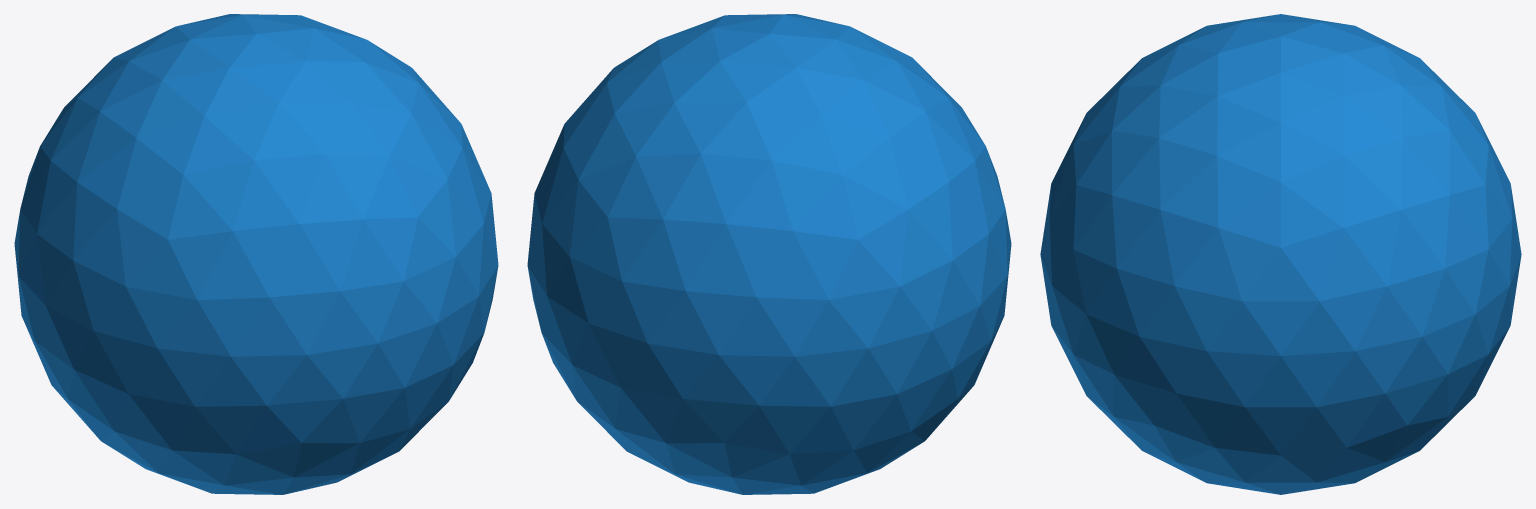
File: Ice_Planet.FBX
3 views of the same model, side by side, from view 1: azimuth 30°, elevation 25°; view 2: azimuth 150°, elevation 25°; view 3: azimuth 270°, elevation 25° (orthographic).
Parts seen in each view (by area): view 1: Ice_Planet; view 2: Ice_Planet; view 3: Ice_Planet.
Part boxes in pixels (left/top/right/bottom): Ice_Planet: left=14, top=14, right=498, bottom=494; Ice_Planet: left=527, top=14, right=1011, bottom=494; Ice_Planet: left=1040, top=14, right=1521, bottom=494.
Bounding box in the file's own units: 149 × 149 × 149.
